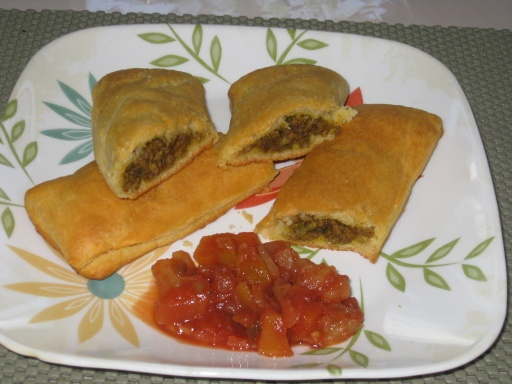background: (19, 38, 356, 213)
